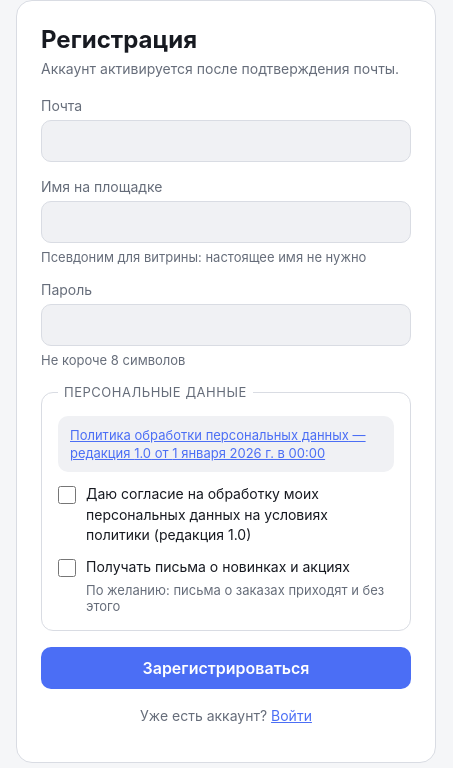
Test case: без обязательного согласия не ходит на бэкенд
Expected: the link "редакция 1.0" is shown, [70,427,366,461]
Type "newbie@universe.test" into the field labelled "Почта" at (226, 141), box [41,120,411,162]
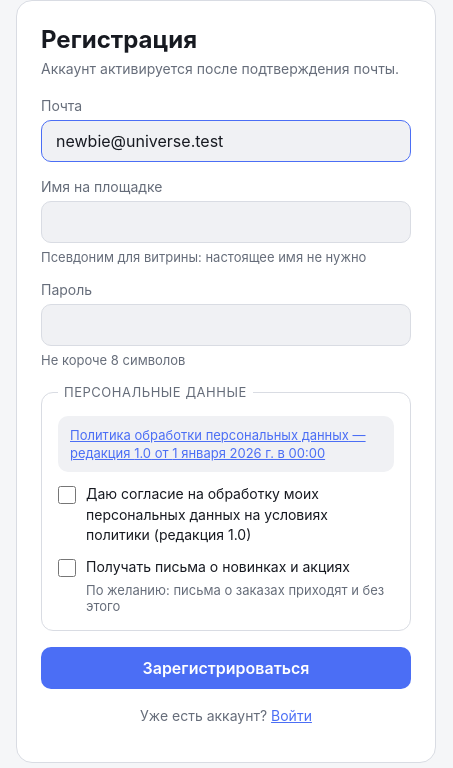
Type "Новичок" into the field labelled "Имя на площадке" at (226, 222), box [41,201,411,243]
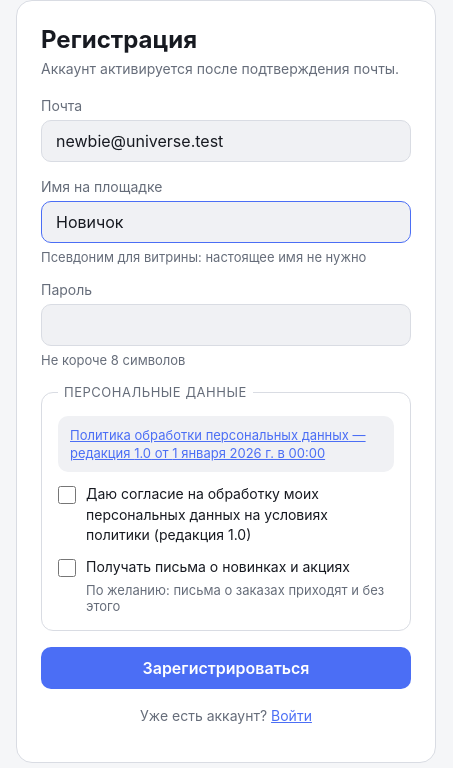
Type "password1" into the password field labelled "Пароль" at (226, 325), box [41,304,411,346]
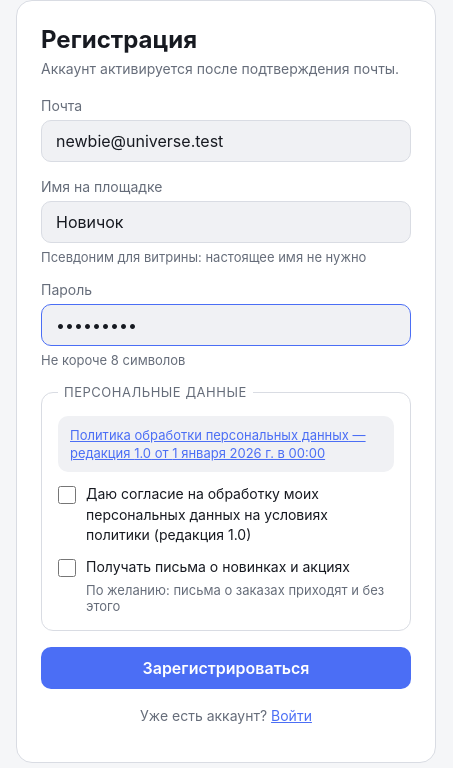
Click the button "Зарегистрироваться" at (226, 668), box [41,647,411,689]
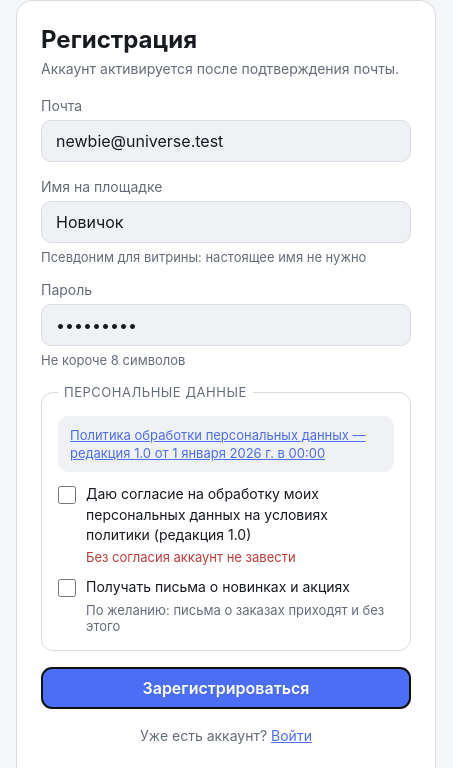
Expected: the text "Без согласия аккаунт не завести" is shown, [86,549,296,565]
